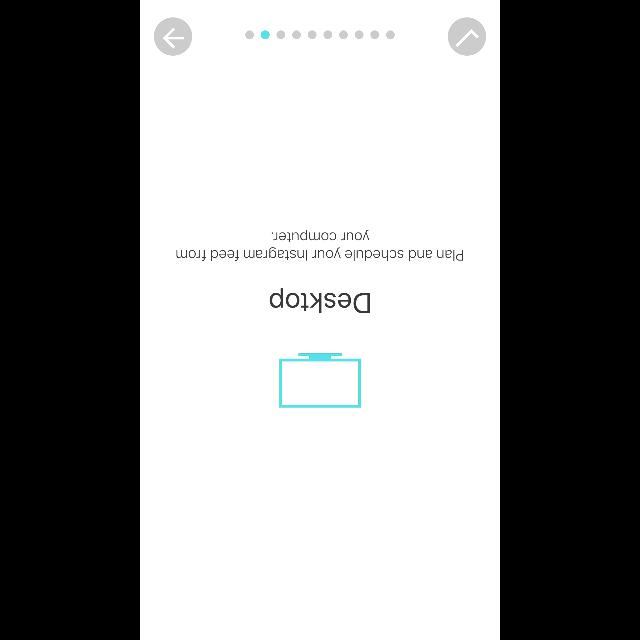icon: (280, 353, 360, 407), (154, 18, 192, 56), (448, 18, 486, 56)
pageindicator: (246, 31, 394, 39)
text: (177, 230, 463, 260), (270, 288, 370, 314)
